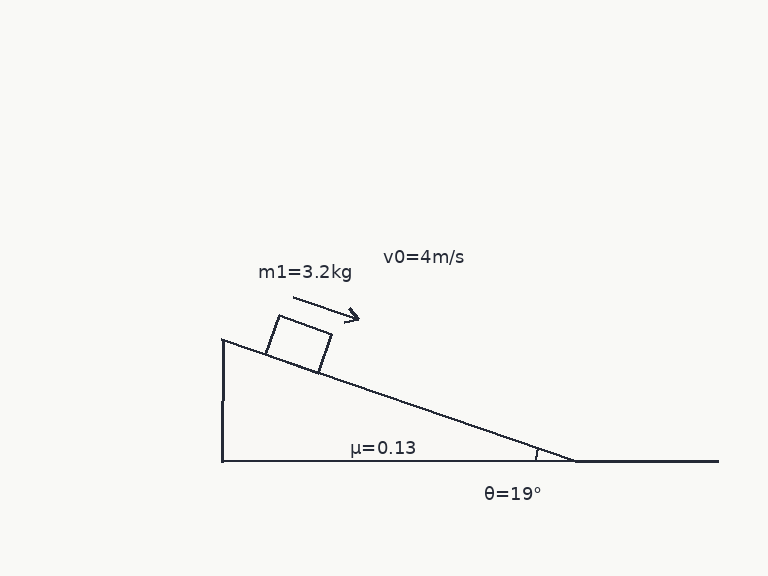block: (264, 314, 333, 374)
ramp: (219, 337, 578, 463)
